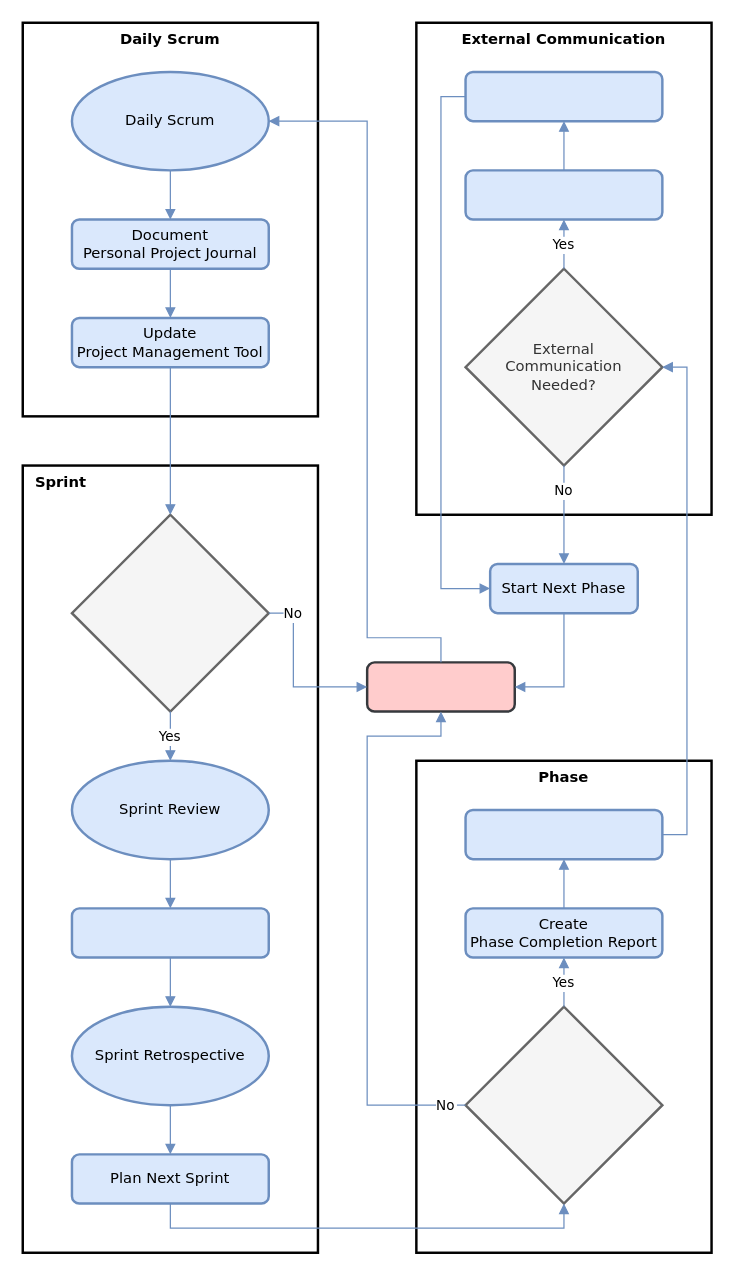
Some shapes in this 733 by 1274 pixel diagram are drawn without their labels. Here are the shapes that lost their labels. From the top down, the centre of each, then its label:
the point at 563,96: Send External Communication
the point at 563,194: Prepare External Communication
the point at 169,612: End of Sprint?
the point at 440,686: Start of Day
the point at 563,834: Update Stakeholder Registry
the point at 169,932: Update Project Documentation
the point at 563,1104: End of Phase?
